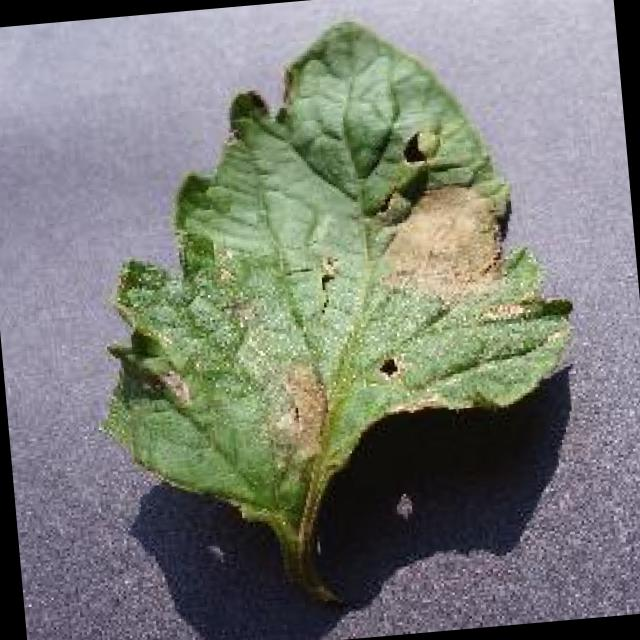Tomato_Late_Blight: (213, 286, 348, 488), (369, 137, 518, 316)
